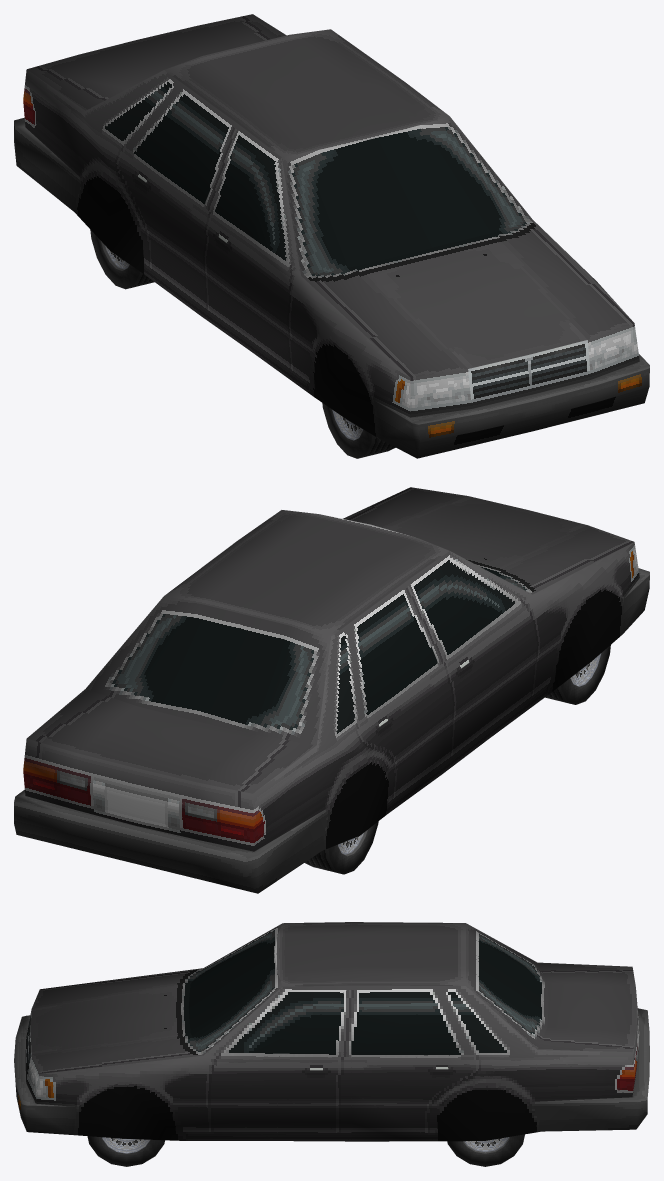
The model's file is Car6.glb.
3 views of the same model, one above another, from view 1: azimuth 30°, elevation 25°; view 2: azimuth 150°, elevation 25°; view 3: azimuth 270°, elevation 25° (orthographic). The views are drawn at different scales.
Parts seen in each view (by area): view 1: Body, Wheel_FR, Wheels_RR; view 2: Body, Wheels_RR, Wheel_FR; view 3: Body, Wheels_FL, Wheels_RL.
Boxes of the visible parts, bbox=[...] form: Body: bbox=[14, 14, 649, 458]; Wheel_FR: bbox=[322, 403, 395, 458]; Wheels_RR: bbox=[90, 230, 154, 289]; Body: bbox=[14, 487, 649, 893]; Wheels_RR: bbox=[304, 821, 378, 874]; Wheel_FR: bbox=[545, 645, 610, 704]; Body: bbox=[14, 922, 649, 1141]; Wheels_FL: bbox=[87, 1136, 164, 1166]; Wheels_RL: bbox=[447, 1134, 524, 1166].
Size of the model in its own units: 1.02 by 0.8487 by 2.85.
Materials: 1 (1 with a texture image).
